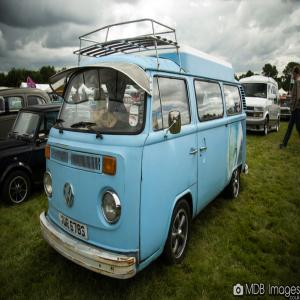Vehicle-registration-plate: (60, 212, 89, 242)
